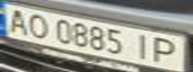0: (51, 16, 75, 45)
5: (106, 26, 130, 56)
8: (87, 24, 109, 53), (69, 20, 90, 48)
A: (0, 6, 33, 35)
I: (127, 30, 157, 61)
O: (21, 11, 51, 39)
P: (148, 35, 184, 65)
